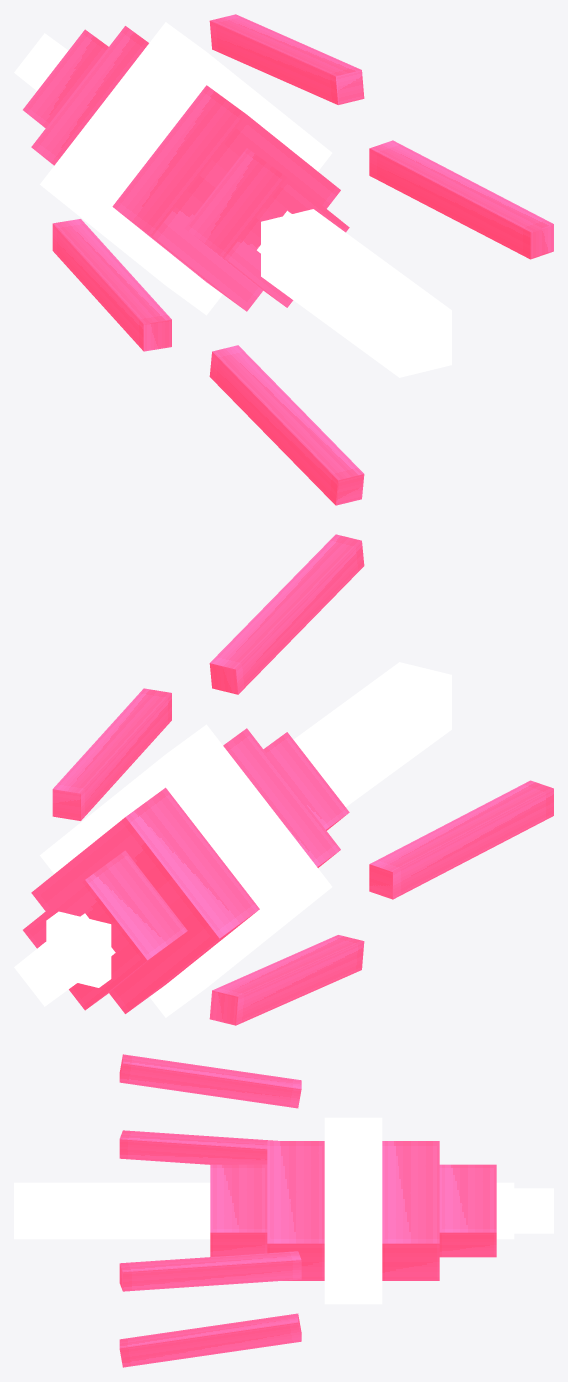
The model's file is throne_shot_red.gltf.
3 renders of one model, top to bottom at view 1: azimuth 30°, elevation 25°; view 2: azimuth 150°, elevation 25°; view 3: azimuth 270°, elevation 25°, orthographic. The views are drawn at different scales.
Parts seen in each view (by area): view 1: core_mesh; view 2: core_mesh; view 3: core_mesh.
Part boxes in pixels (<box>): core_mesh: <box>14,14,553,505</box>; core_mesh: <box>14,534,553,1025</box>; core_mesh: <box>14,1054,553,1367</box>.
Size of the model in its own units: 0.587 by 0.587 by 0.9444.
Materials: 1 (1 with a texture image).
